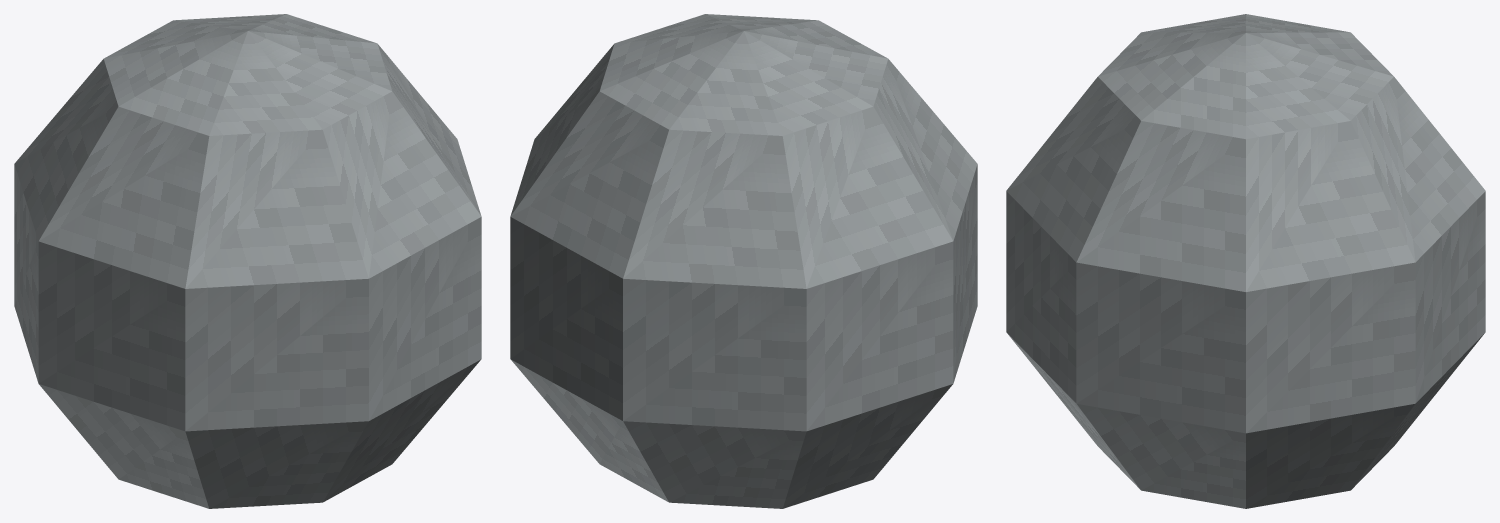
File: dungeon-room-builder-rolling-boulder-f42ea747__25823.glb
3 views of the same model, side by side, from view 1: azimuth 30°, elevation 25°; view 2: azimuth 150°, elevation 25°; view 3: azimuth 270°, elevation 25° (orthographic).
Parts seen in each view (by area): view 1: rolling-boulder; view 2: rolling-boulder; view 3: rolling-boulder.
Part boxes in pixels (box(x1,y1,x2,y2)): rolling-boulder: box(14, 14, 481, 508); rolling-boulder: box(510, 14, 977, 508); rolling-boulder: box(1006, 14, 1485, 508).
Size of the model in its own units: 1.9 by 2 by 1.9.
1 material, 1 textured.
